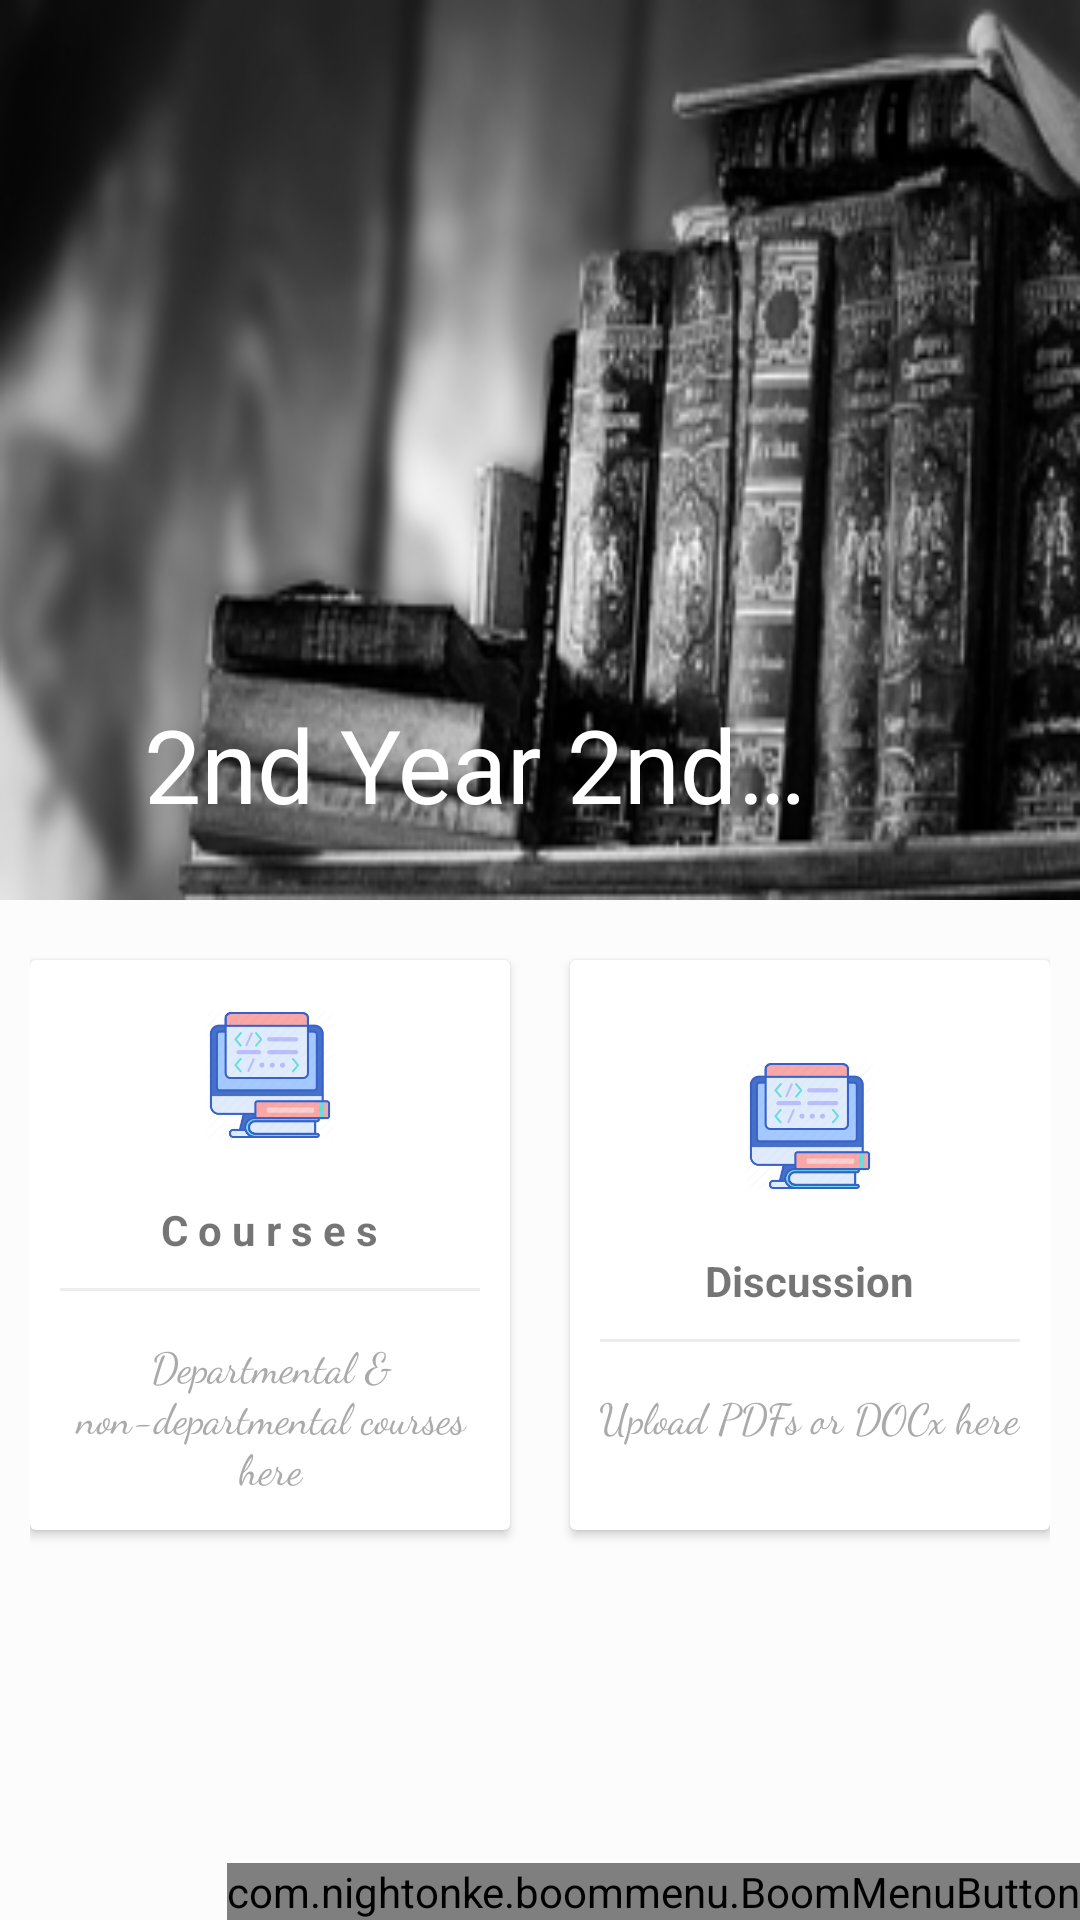

Where icons sit on this 1080*1920 app screen, as (x1, y1, x2, y2):
cse: (210, 1012, 330, 1138), (750, 1063, 870, 1189)
